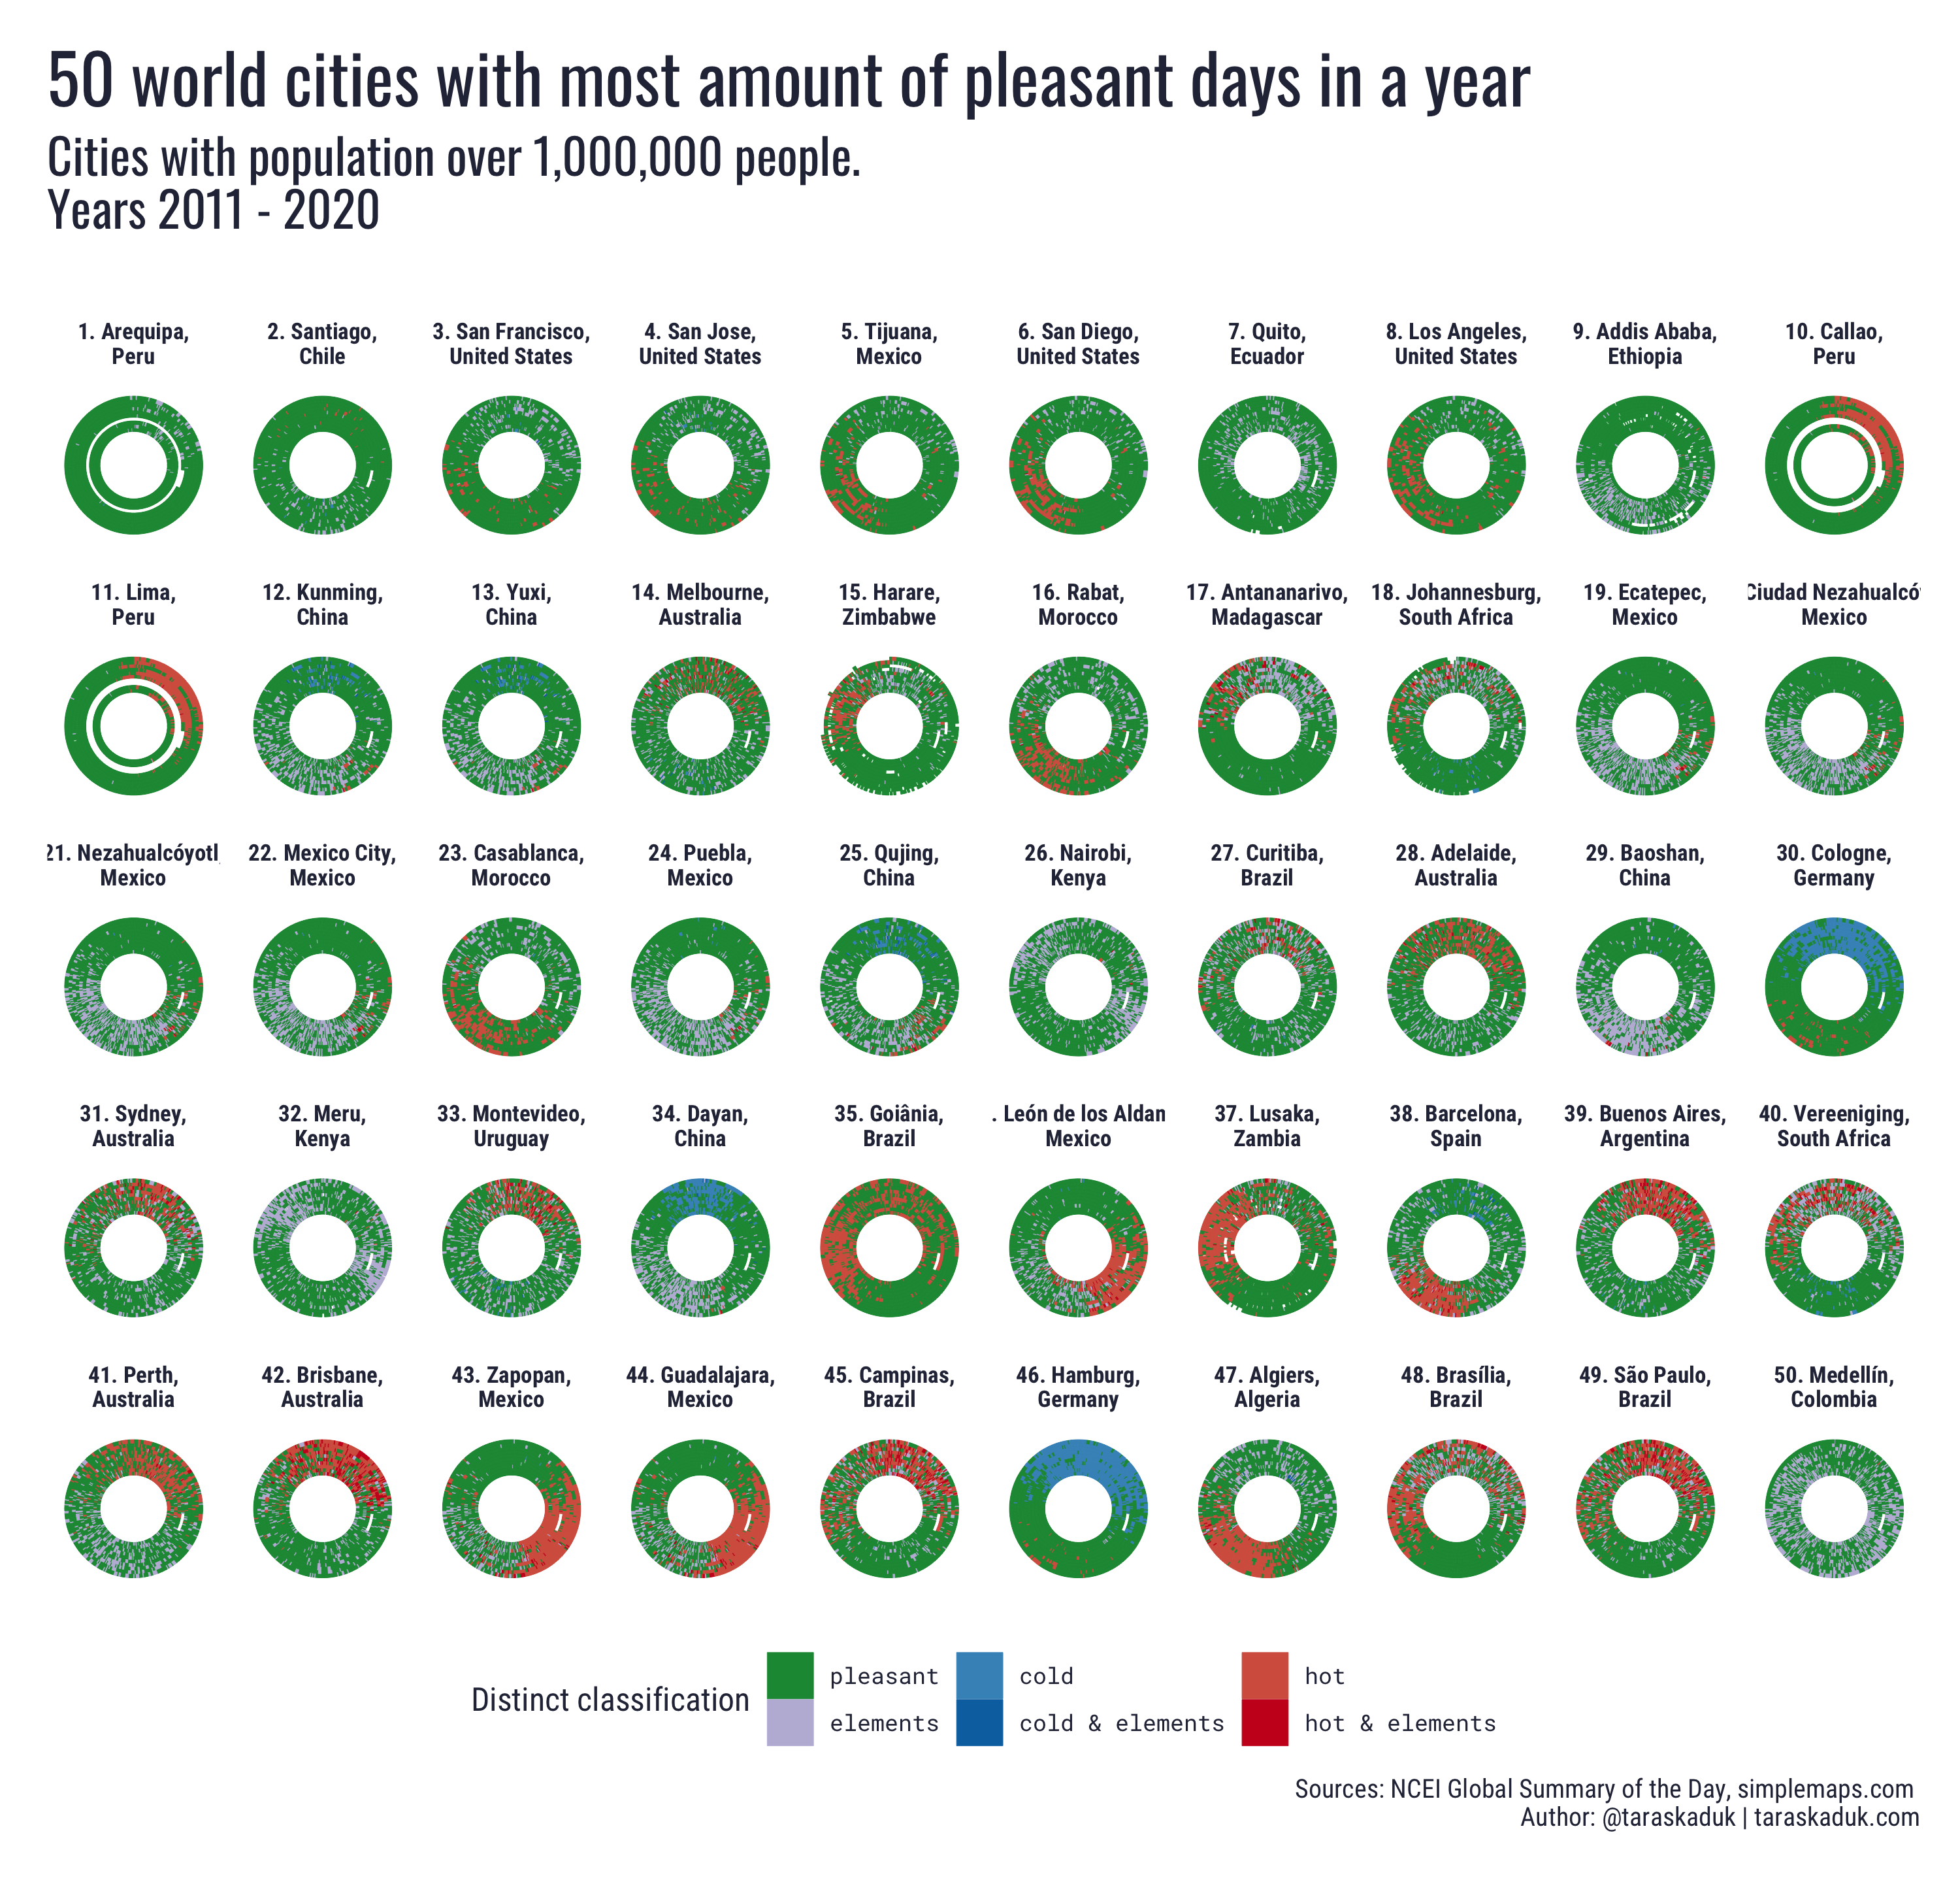

What the dashboard file says about the page in this screenshot:
{"tool":"tableau","page":{"name":"Radial Stack Bar Charts","canvas":[900,800],"ordinal":0},"visuals":[{"type":"worksheet","title":"radial stacked bar","mark":"Polygon","box":[0,0,796,800]},{"type":"legend","title":"radial stacked bar","param":"[federated.0d4brrl0id6ggj1ffol9q0xiccq4].[none:Calculation_4518799278402621453:n","box":[796,0,104,90]},{"type":"parameter","param":"[Parameters].[Parameter 4]","box":[796,90,104,52]},{"type":"parameter","param":"[Parameters].[Parameter 1]","box":[796,142,104,52]},{"type":"parameter","param":"[Parameters].[Parameter 2]","box":[796,194,104,52]},{"type":"parameter","param":"[Parameters].[Parameter 3]","box":[796,246,104,52]},{"type":"worksheet","title":"social","mark":"Shape","cols":["Platform"],"box":[840,770,60,30]}]}

Visuals, with their boxes on the page's 900x800 design canvas (x1, y1, x2, y2). These are canvas units, not pixel positions in the 1960x1882 screenshot, which may show the page scaled, cropped or inside an application window:
"radial stacked bar" worksheet (Polygon marks): select_region(0, 0, 796, 800)
"radial stacked bar" legend: select_region(796, 0, 900, 90)
parameter: select_region(796, 90, 900, 142)
parameter: select_region(796, 142, 900, 194)
parameter: select_region(796, 194, 900, 246)
parameter: select_region(796, 246, 900, 298)
"social" worksheet (Shape marks): select_region(840, 770, 900, 800)
